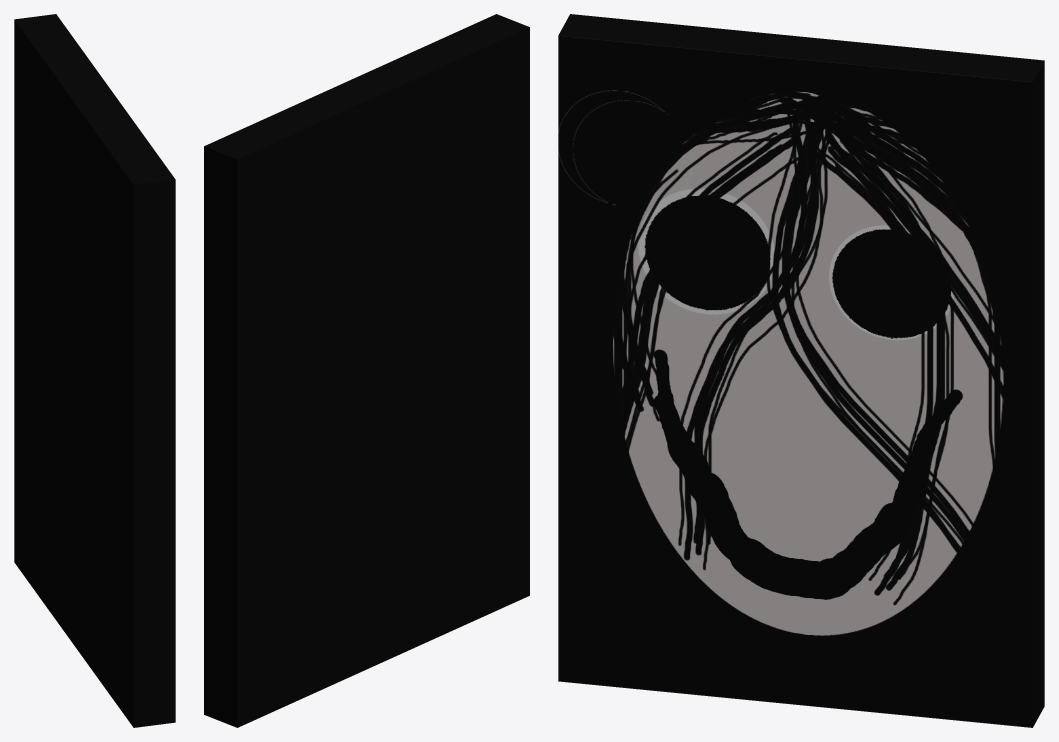
The model's file is MONSTERFACE.glb.
The picture shows the model from 3 angles, left to right: view 1: azimuth 30°, elevation 25°; view 2: azimuth 150°, elevation 25°; view 3: azimuth 270°, elevation 25°; orthographic projection. The views are drawn at different scales.
Parts seen in each view (by area): view 1: Cube; view 2: Cube; view 3: Cube.
Boxes of the visible parts, x1=… form: Cube: x1=14, y1=14, x2=175, y2=727; Cube: x1=204, y1=14, x2=529, y2=727; Cube: x1=558, y1=14, x2=1044, y2=727.
Bounding box in the file's own units: 1.08 × 4.78 × 3.26.
Materials: 2 (1 with a texture image).
